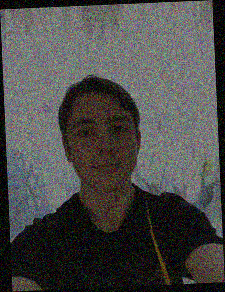without_mask: (69, 114, 139, 192)
